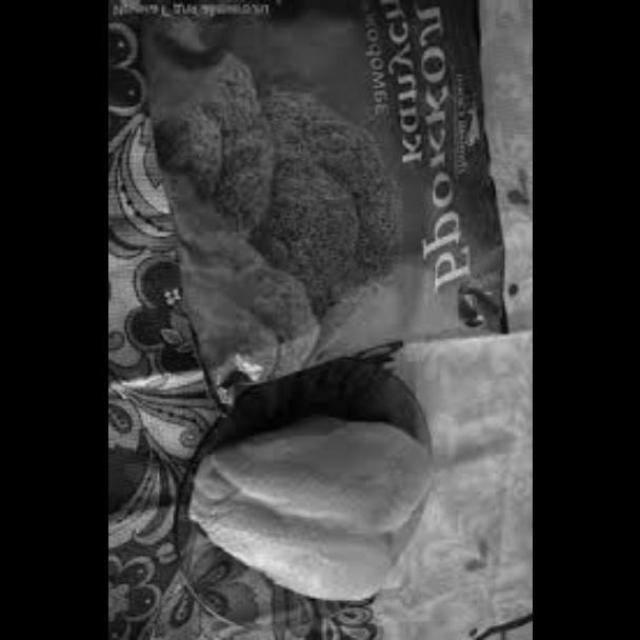bong cai xanh: (161, 88, 401, 295)
